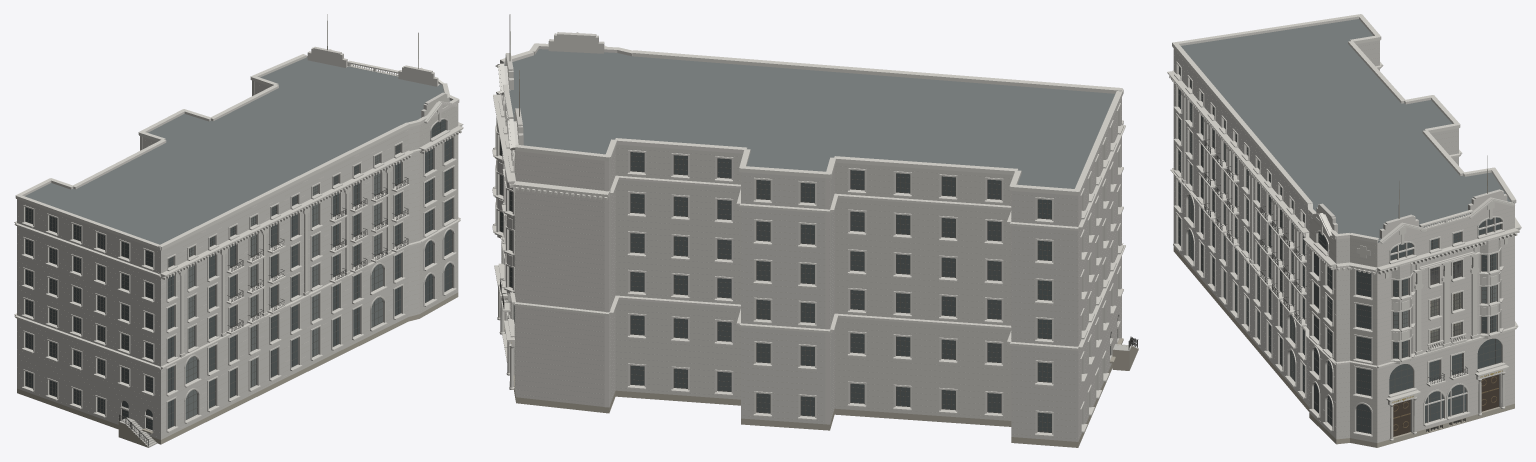
Rendered from bund05-west-service-stair-raw.glb.
3 views of the same model, side by side, from view 1: azimuth 30°, elevation 25°; view 2: azimuth 150°, elevation 25°; view 3: azimuth 270°, elevation 25° (orthographic). The views are drawn at different scales.
Parts seen in each view (by area): view 1: Bund05 Nissin Building — individually photo-registered archi; view 2: Bund05 Nissin Building — individually photo-registered archi; view 3: Bund05 Nissin Building — individually photo-registered archi.
Boxes of the visible parts, x1,y1,x2,y2 form: Bund05 Nissin Building — individually photo-registered archi: [14, 14, 463, 447]; Bund05 Nissin Building — individually photo-registered archi: [492, 14, 1138, 447]; Bund05 Nissin Building — individually photo-registered archi: [1167, 14, 1521, 447].
Size of the model in its own units: 65.53 by 34.5 by 42.89.
Materials: 16 (1 with a texture image).
